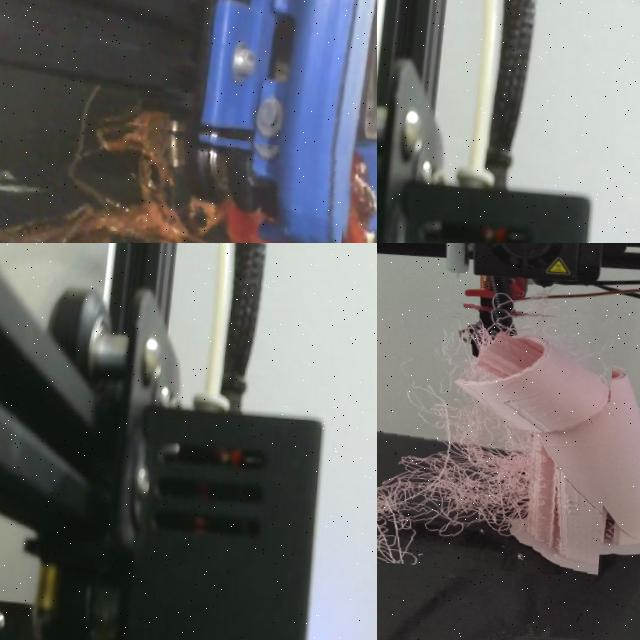spaghetti: (377, 305, 612, 564), (0, 123, 211, 243)
